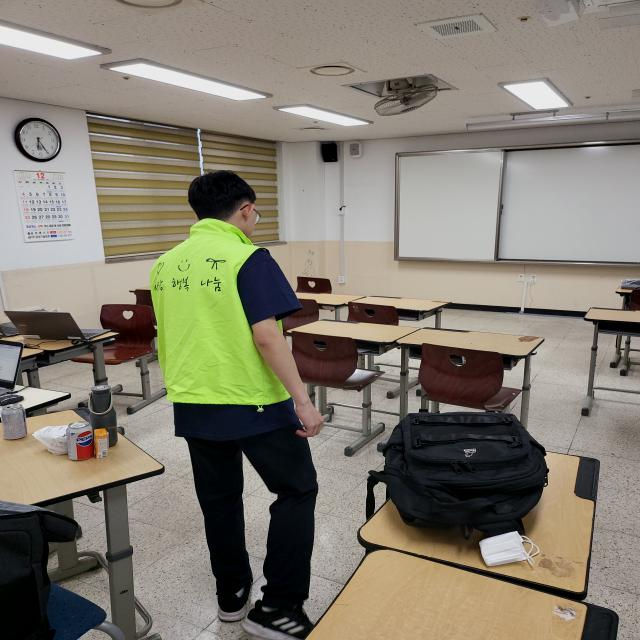weston_spy: (138, 212, 320, 423)
